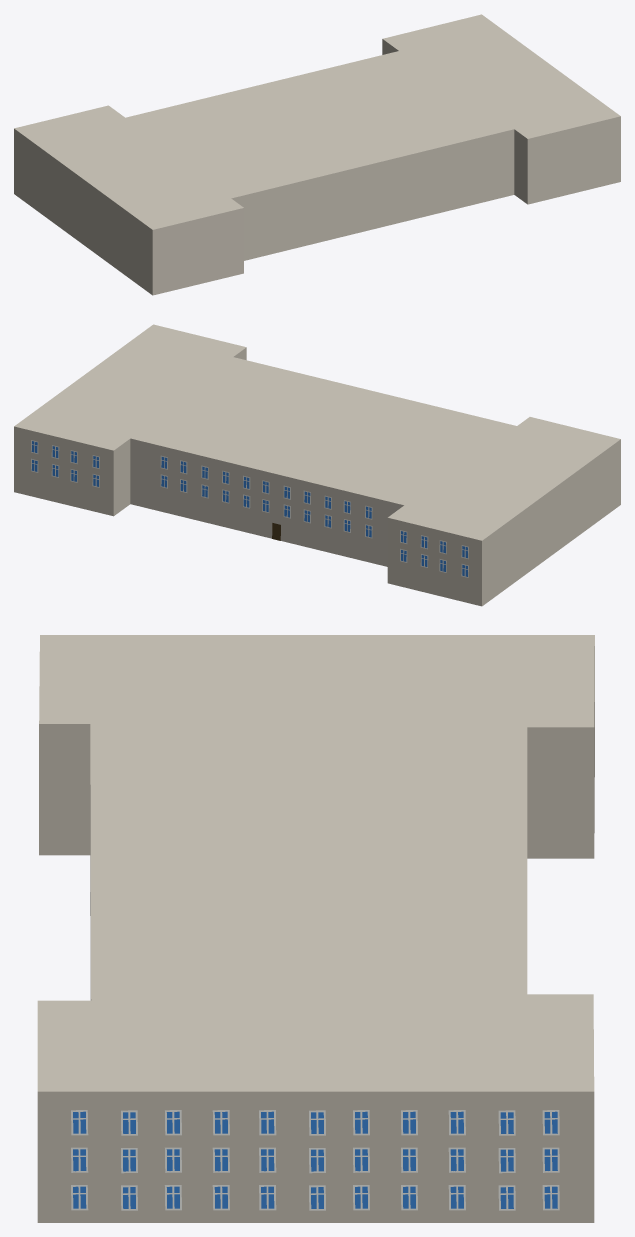
3 views of the same model, one above another, from view 1: azimuth 30°, elevation 25°; view 2: azimuth 150°, elevation 25°; view 3: azimuth 270°, elevation 25° (orthographic). The views are drawn at different scales.
Visible parts, largest first — view 1: Плоскость.663; view 2: Плоскость.663, Плоскость.001; view 3: Плоскость.663, Плоскость.002, Плоскость.003.
Part boxes in pixels (bbox=[...]): Плоскость.663: bbox=[14, 14, 620, 295]; Плоскость.663: bbox=[14, 324, 620, 606]; Плоскость.001: bbox=[160, 455, 372, 538]; Плоскость.663: bbox=[37, 635, 594, 1222]; Плоскость.002: bbox=[71, 1110, 559, 1172]; Плоскость.003: bbox=[71, 1147, 559, 1210].
Size of the model in its own units: 640 by 85.68 by 331.
